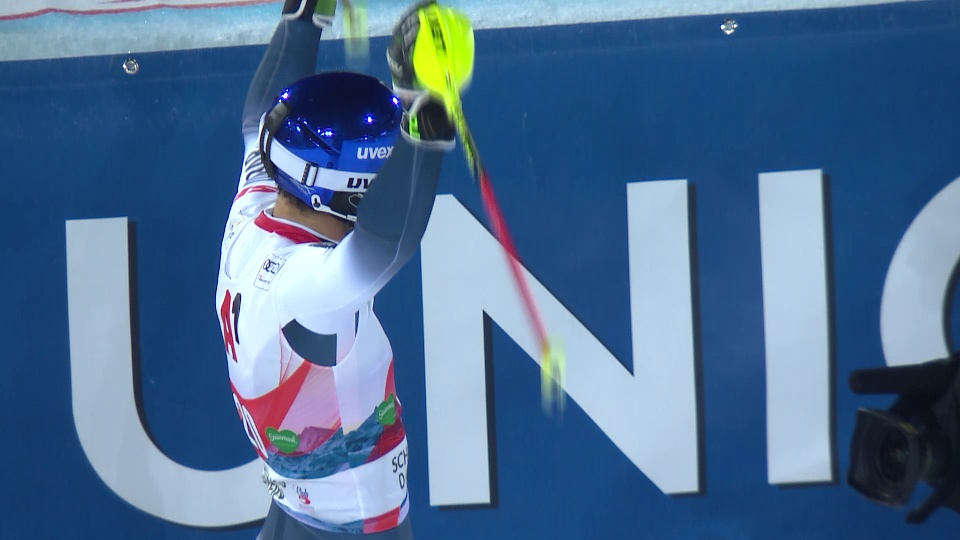a1: (43, 96, 960, 509), (216, 291, 253, 364), (294, 488, 313, 510)
steiermark: (262, 429, 301, 452), (366, 404, 405, 427)
